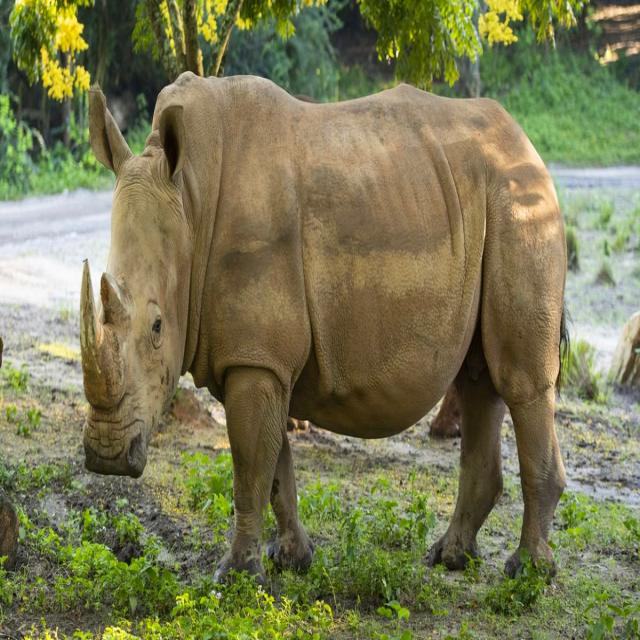rhinoceros: (81, 71, 566, 582)
